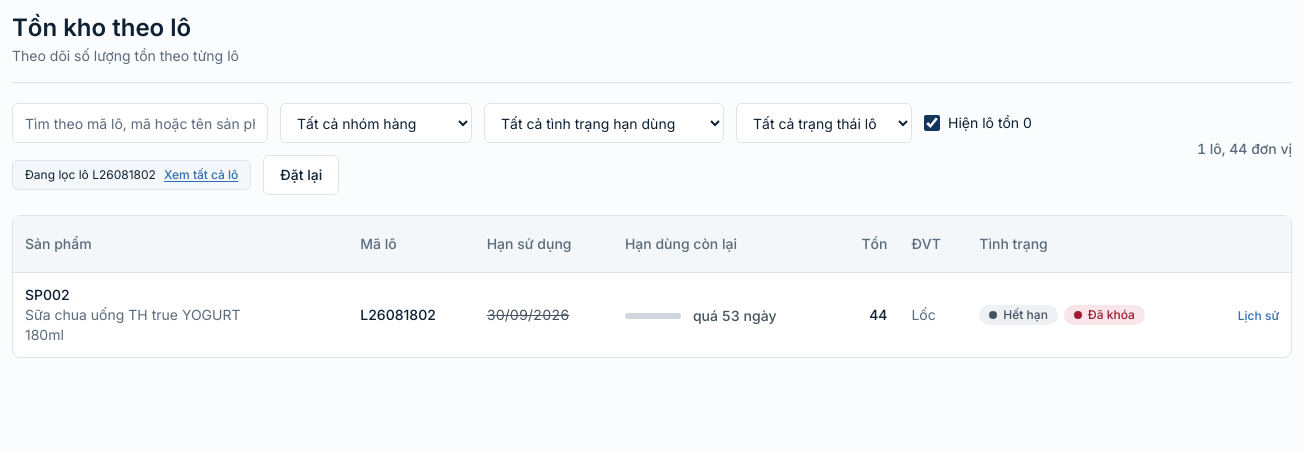
Scenario: InventoryLotsPage (AC8) › T-019 AC3: đọc ?lotId= và ?includeEmpty=true từ URL, lọc đúng lô và cho phép xóa lọc lô
Expected: the text "L26081802" is shown, [348, 272, 475, 356]
Expected: the text "Đang lọc lô L26081802" is shown, [25, 167, 156, 183]
Click the button "Xem tất cả lô" at (201, 175), box [164, 167, 238, 183]
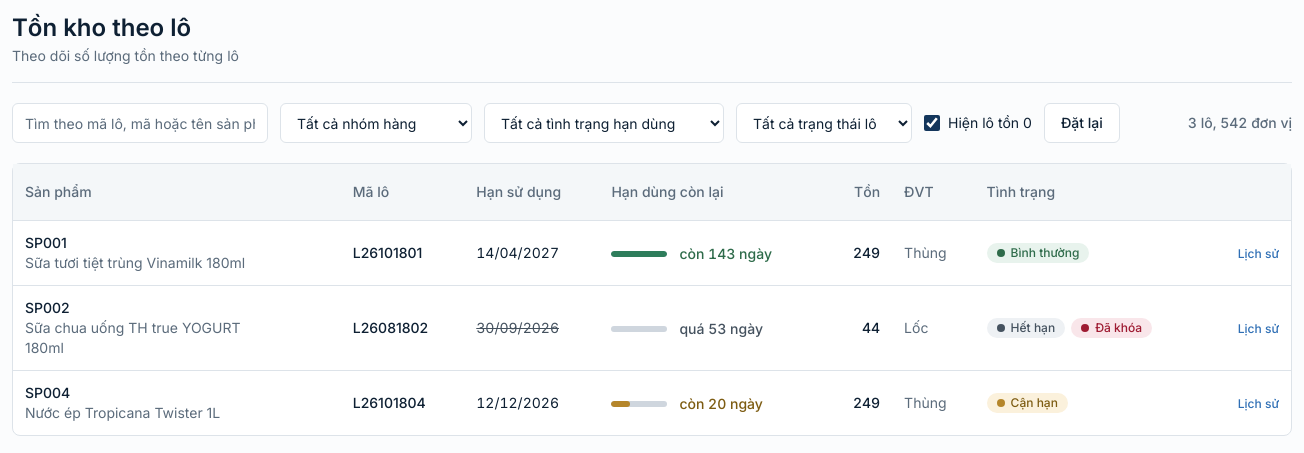
Result: the text "L26101801" is shown at [341, 220, 464, 285]
Result: the text "Đang lọc lô" is gone
